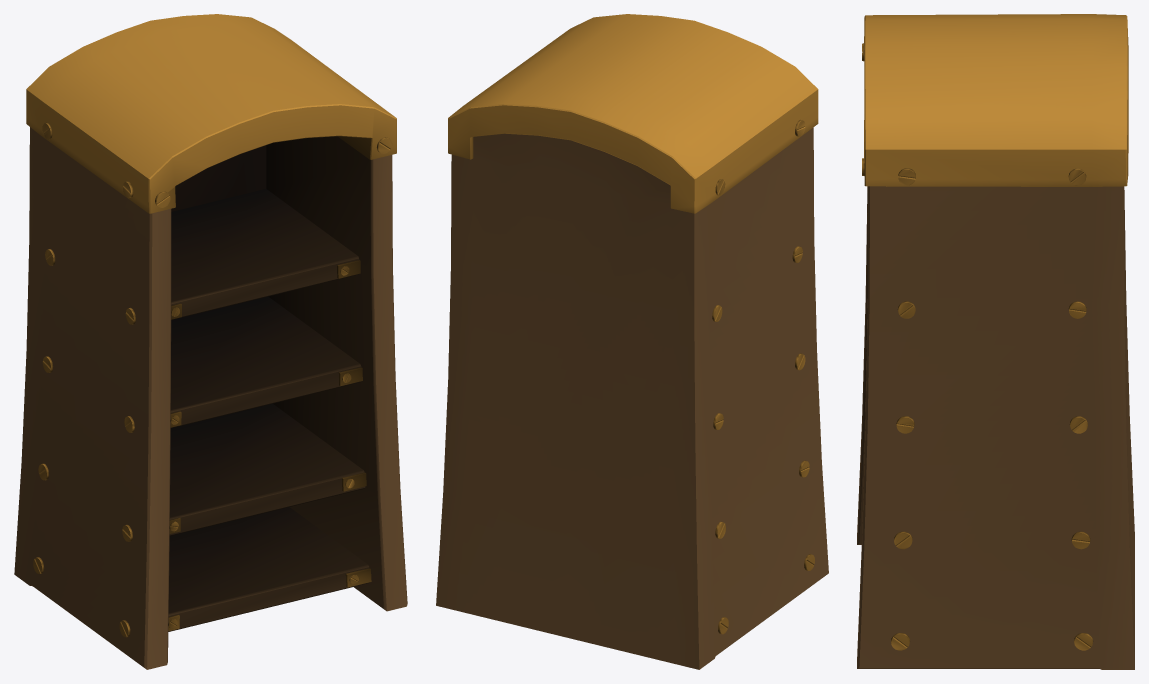
The model's file is obj_closet.FBX.
The picture shows the model from 3 angles, left to right: view 1: azimuth 30°, elevation 25°; view 2: azimuth 150°, elevation 25°; view 3: azimuth 270°, elevation 25°; orthographic projection. The views are drawn at different scales.
Visible parts, largest first — view 1: obj_closet; view 2: obj_closet; view 3: obj_closet.
Boxes of the visible parts, x1,y1,x2,y2 form: obj_closet: (14,14,407,669); obj_closet: (436,14,828,669); obj_closet: (857,14,1134,669).
Bounding box in the file's own units: 2.73 × 5.14 × 2.32.
